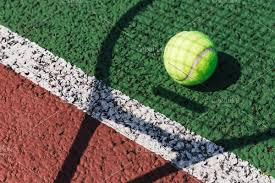tennis_ball: (163, 30, 218, 87)
